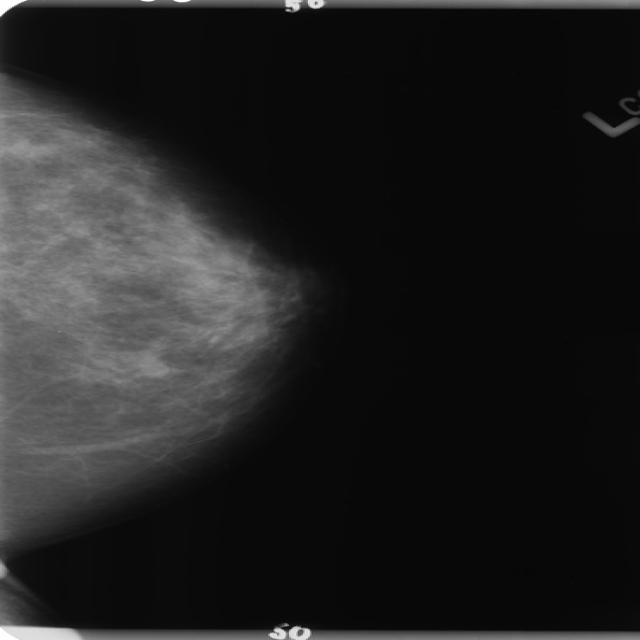tumour: (134, 354, 169, 377)
